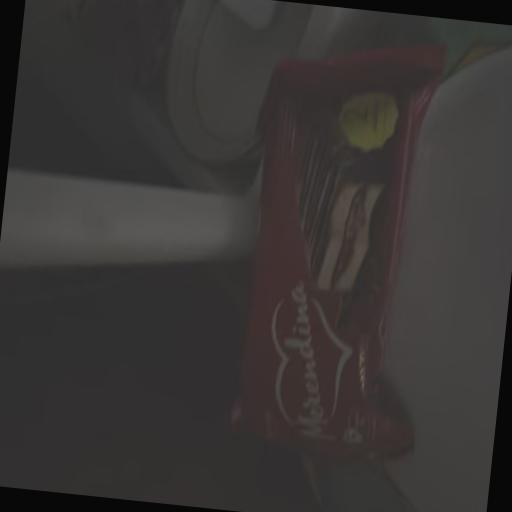merendina: (220, 22, 482, 511)
